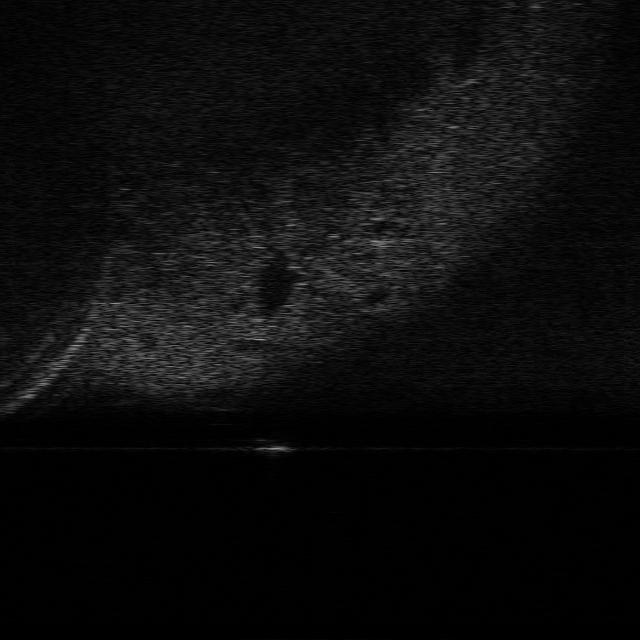cube: (252, 436, 298, 459)
